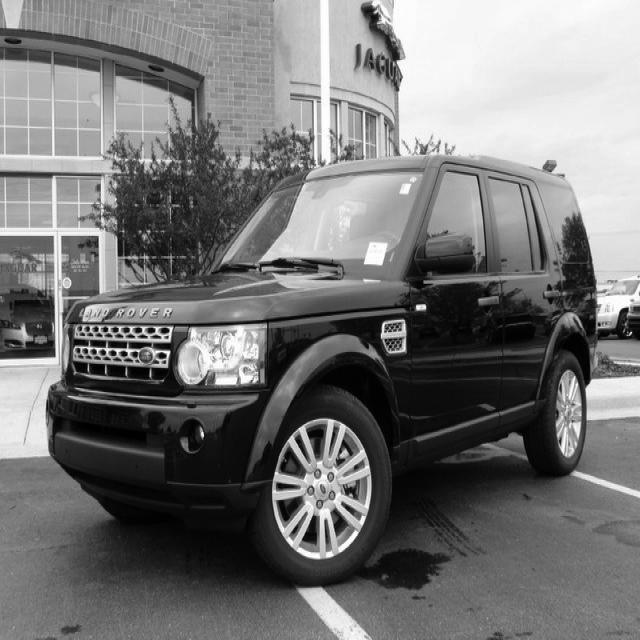car: (44, 152, 599, 587), (0, 284, 54, 349)
